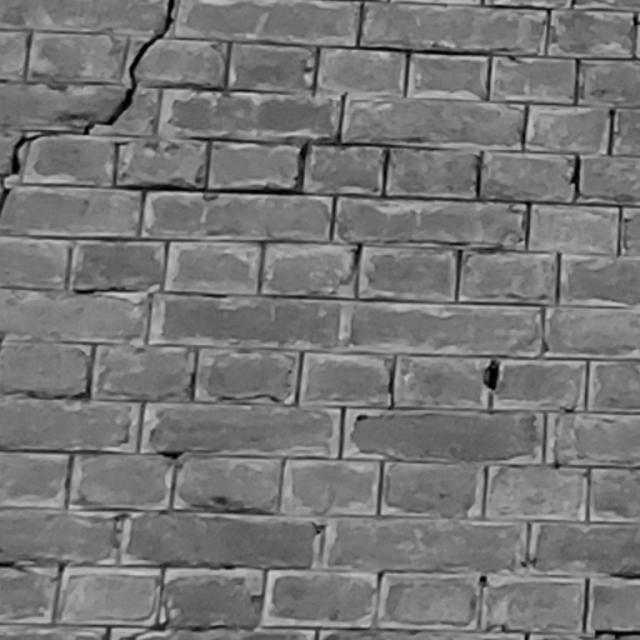crack: (1, 1, 176, 210)
